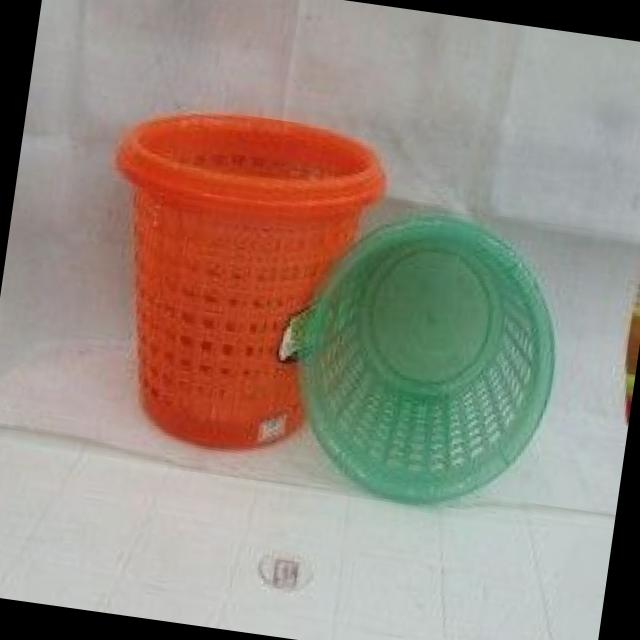dustbin: (75, 91, 400, 472), (282, 191, 580, 535)
